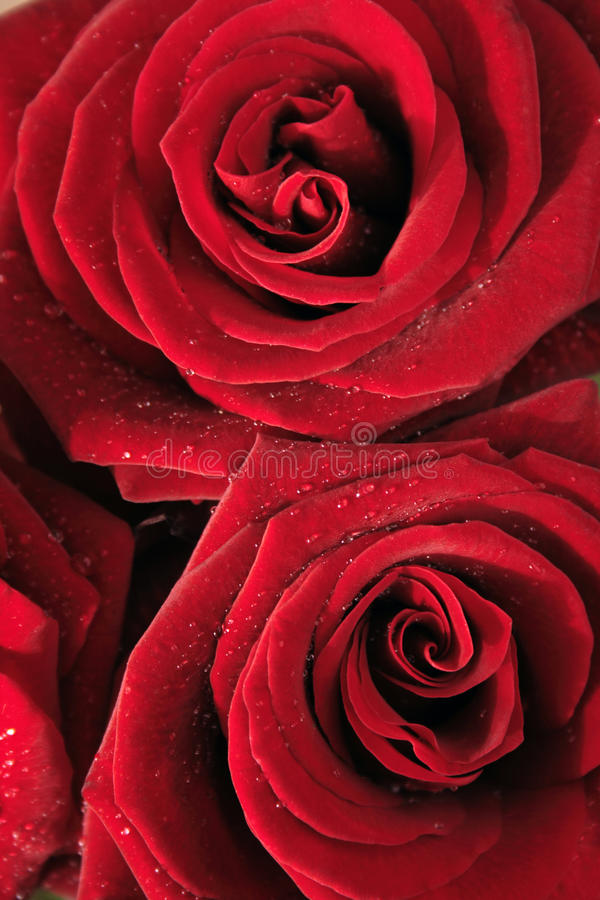RedRose: (29, 0, 599, 450), (180, 376, 600, 891)
